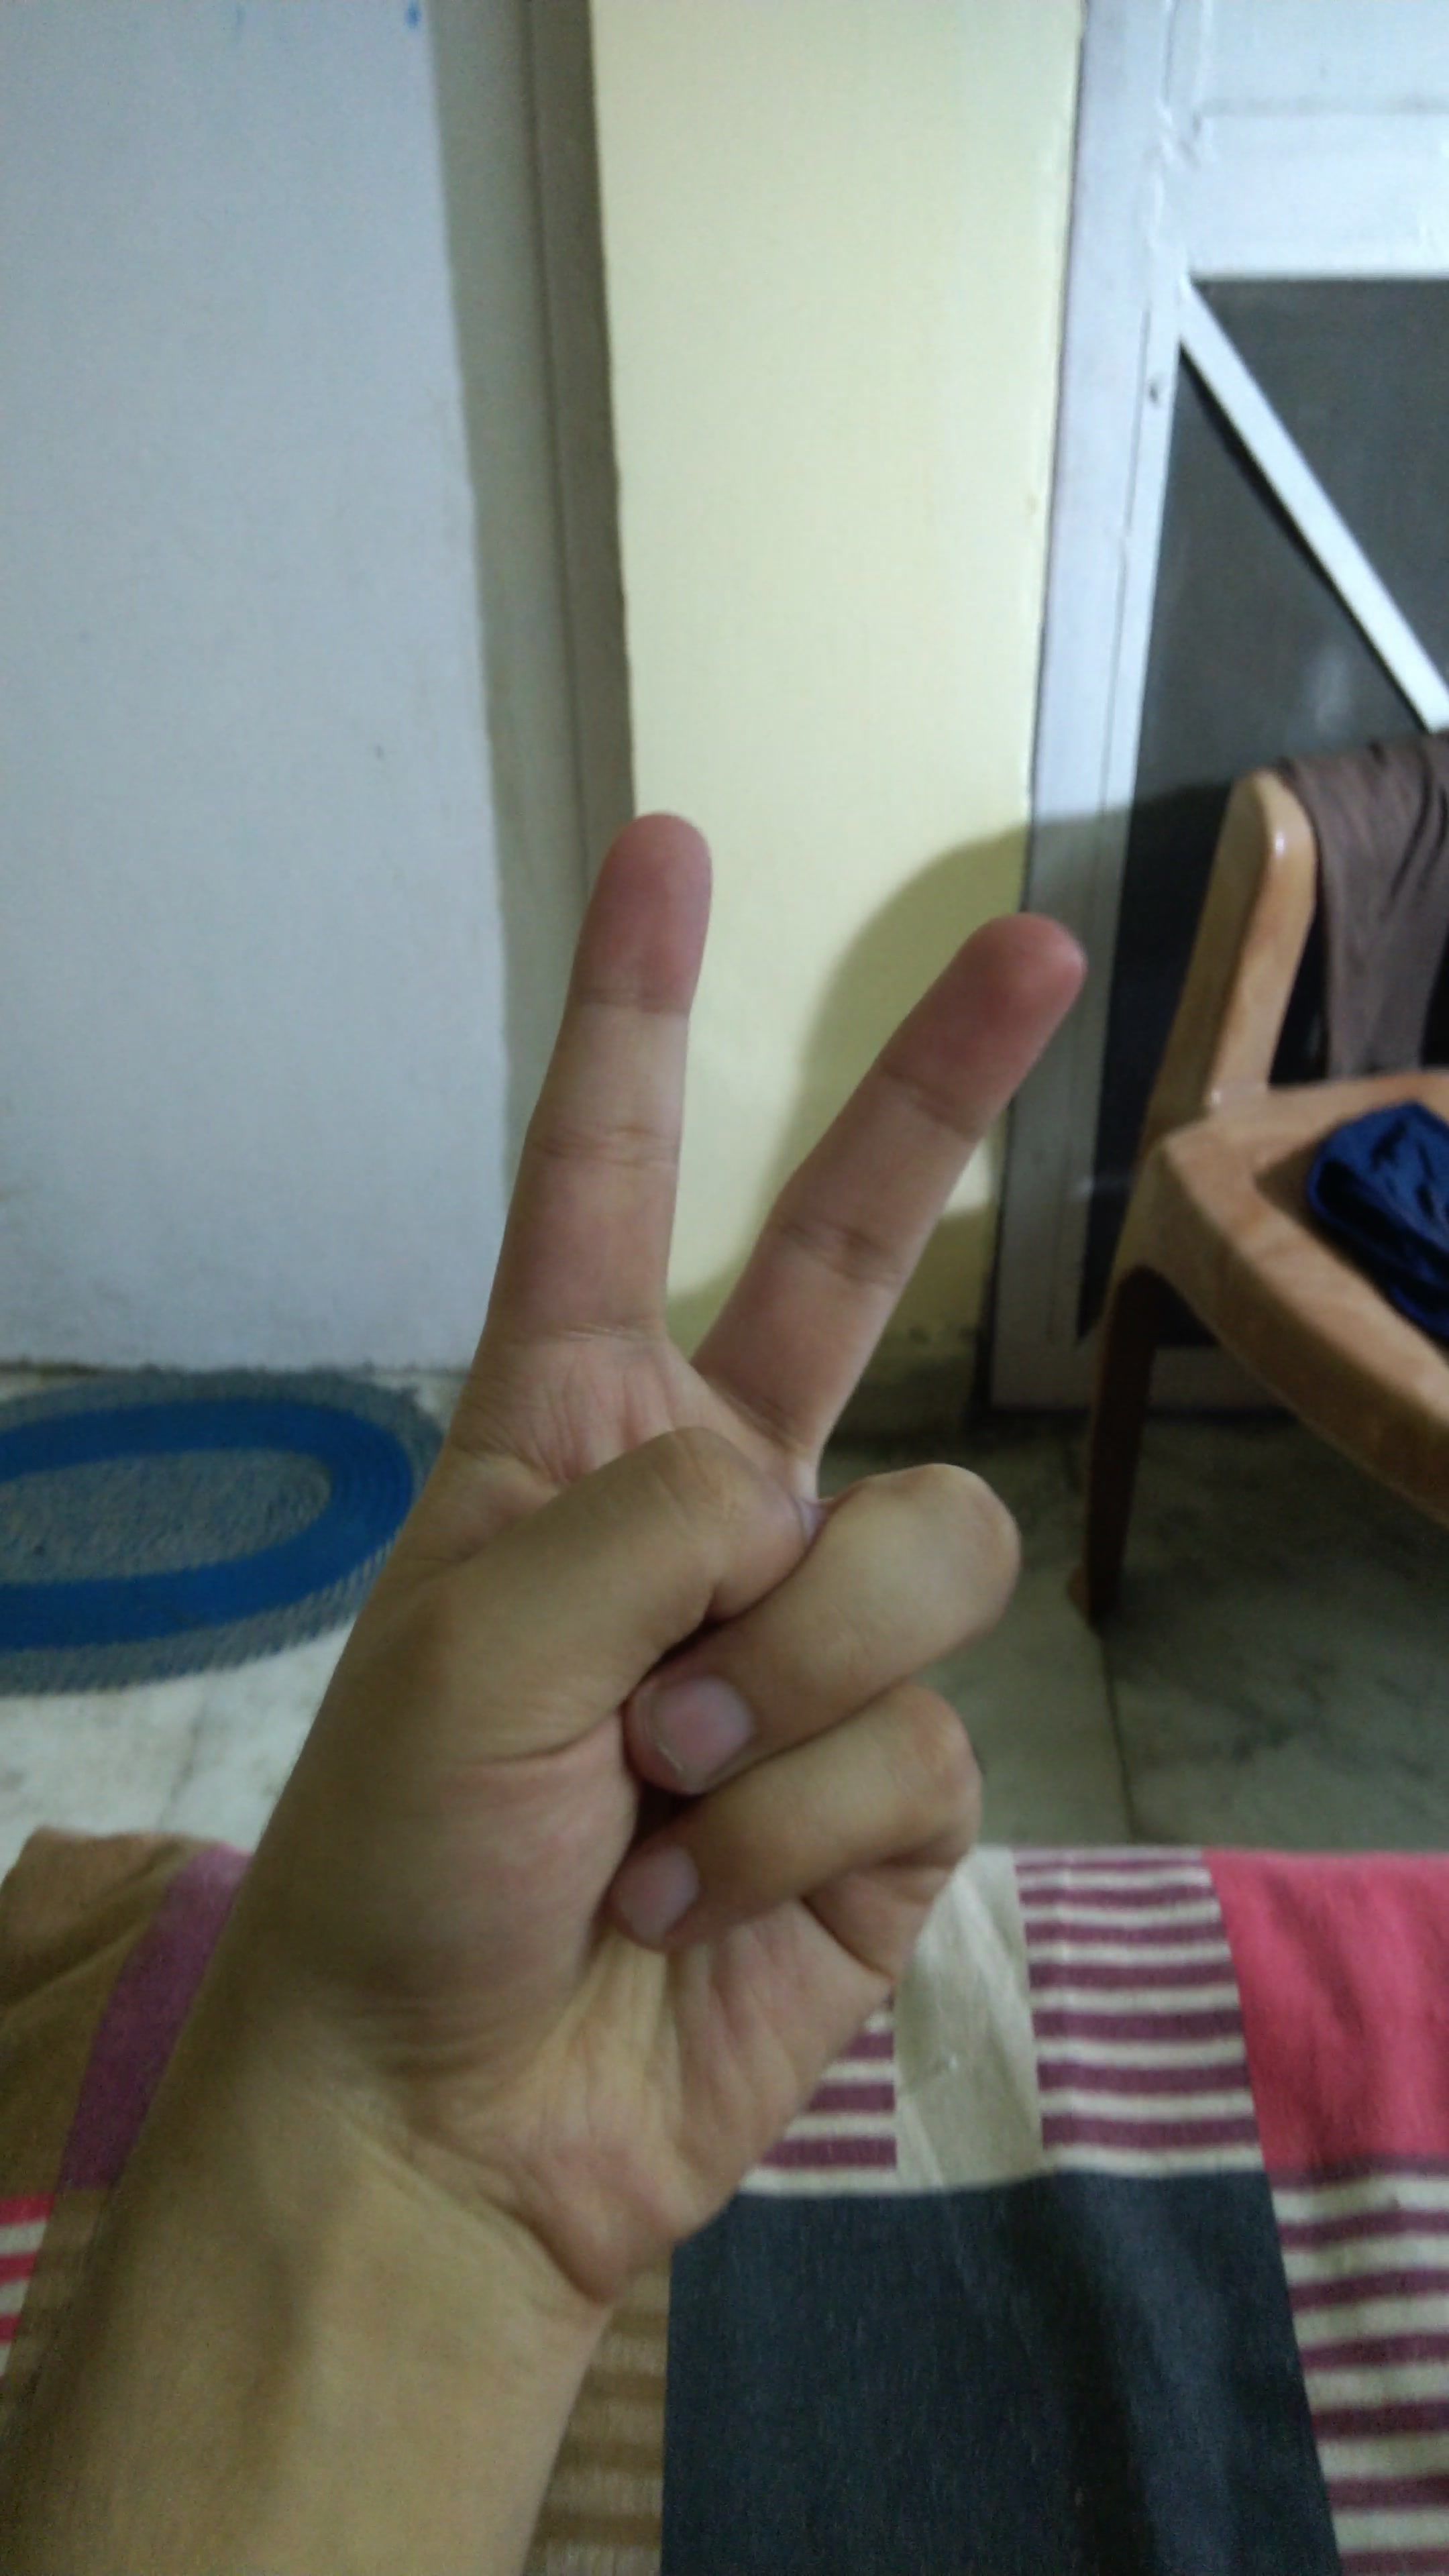hand: (103, 750, 1198, 2415)
